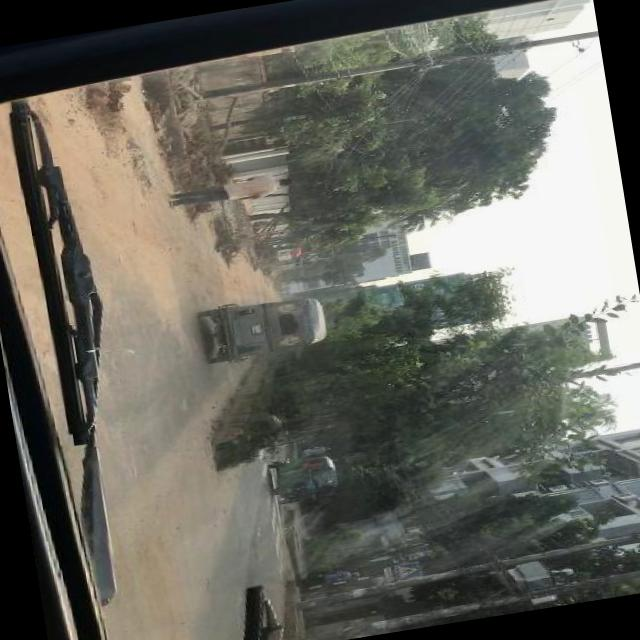motorcycle: (201, 289, 328, 366), (267, 452, 339, 497)
